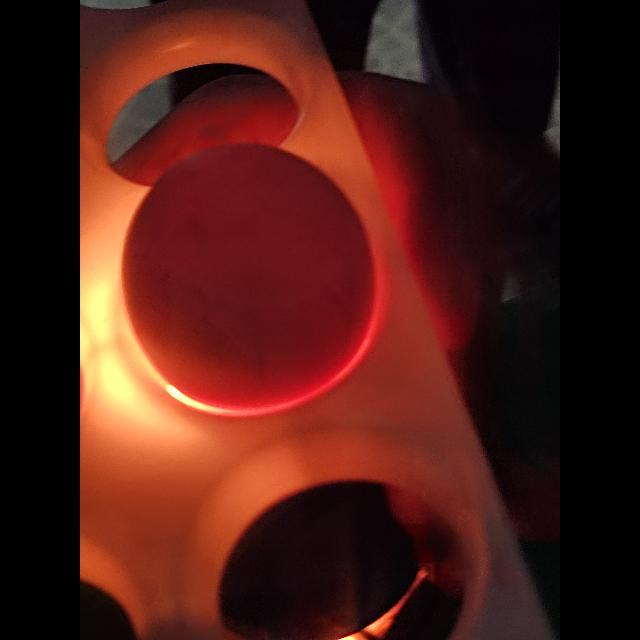Fertile: (119, 133, 383, 411)
